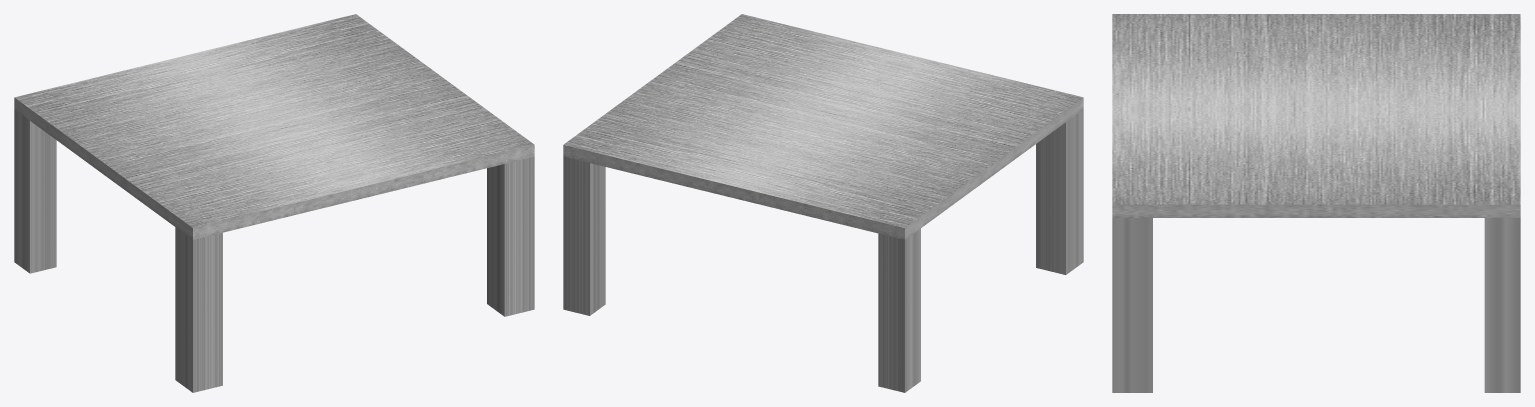
File: NormalTable.fbx
The picture shows the model from 3 angles, left to right: view 1: azimuth 30°, elevation 25°; view 2: azimuth 150°, elevation 25°; view 3: azimuth 270°, elevation 25°; orthographic projection. The views are drawn at different scales.
Parts seen in each view (by area): view 1: Cube.001; view 2: Cube.001; view 3: Cube.001.
Part boxes in pixels (box(x1,y1,x2,y2)): Cube.001: box(14, 14, 534, 392); Cube.001: box(563, 14, 1083, 392); Cube.001: box(1112, 14, 1520, 392).
Bounding box in the file's own units: 120 × 55.11 × 108.
